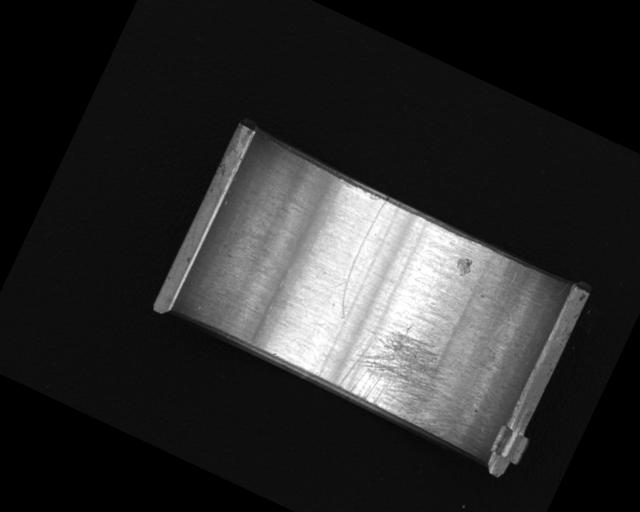bruise: (451, 253, 474, 277)
nick: (328, 196, 399, 320)
scratch: (332, 303, 477, 436)
